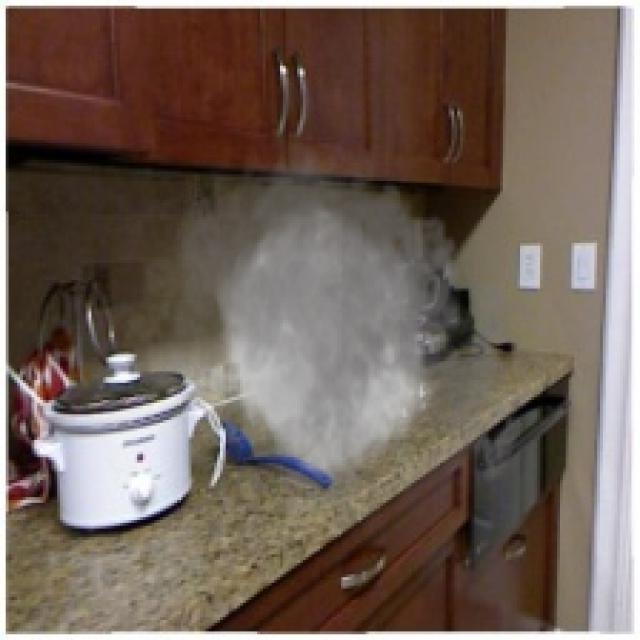Smoke: (162, 128, 528, 552)
